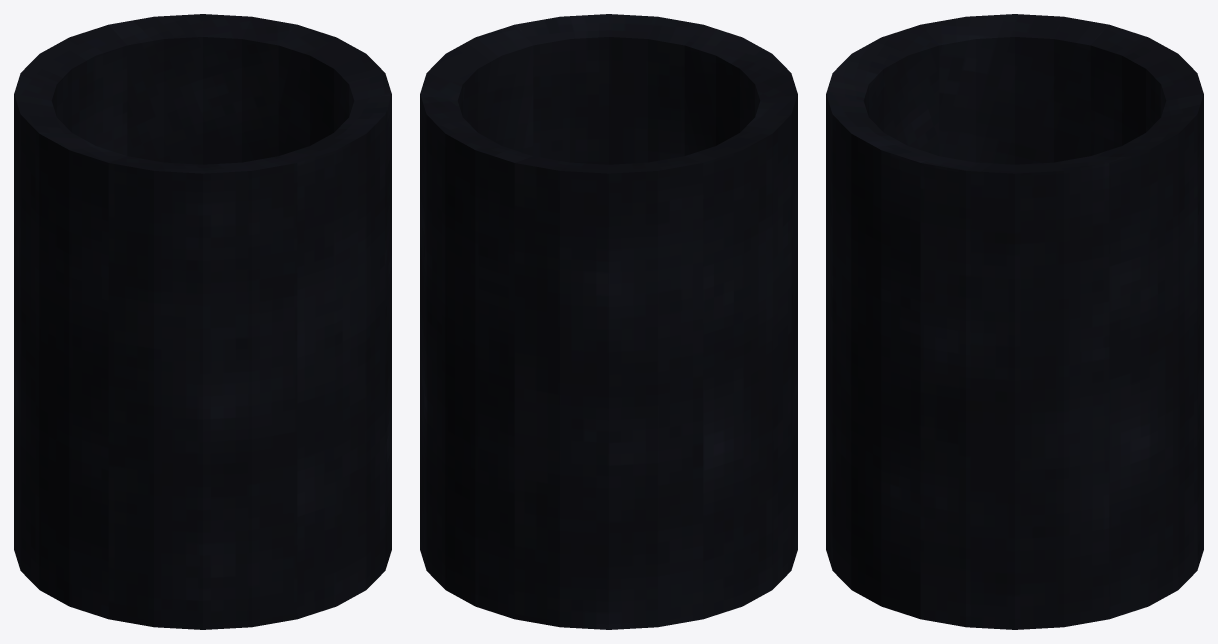
File: trash can.glb
3 renders of one model, left to right at view 1: azimuth 30°, elevation 25°; view 2: azimuth 150°, elevation 25°; view 3: azimuth 270°, elevation 25°, orthographic.
Parts seen in each view (by area): view 1: Cylinder; view 2: Cylinder; view 3: Cylinder.
Part boxes in pixels (bbox=[...]): Cylinder: bbox=[14, 14, 391, 629]; Cylinder: bbox=[420, 14, 797, 629]; Cylinder: bbox=[826, 14, 1203, 629].
Bounding box in the file's own units: 0.6 × 0.8041 × 0.6.
1 material, 1 textured.
